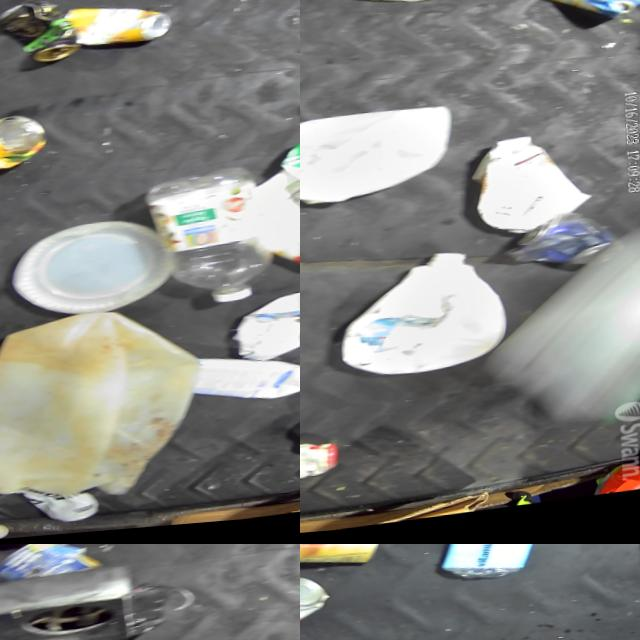can: (520, 221, 610, 284), (0, 0, 79, 71), (68, 0, 175, 52), (0, 105, 60, 180), (300, 544, 386, 575), (300, 440, 347, 489), (300, 574, 331, 637)
milk_jug: (0, 305, 211, 507), (344, 246, 514, 391), (300, 102, 464, 225)
non_white_jug: (530, 0, 640, 37)
plastic_bottle: (144, 174, 284, 311), (428, 544, 549, 596)
